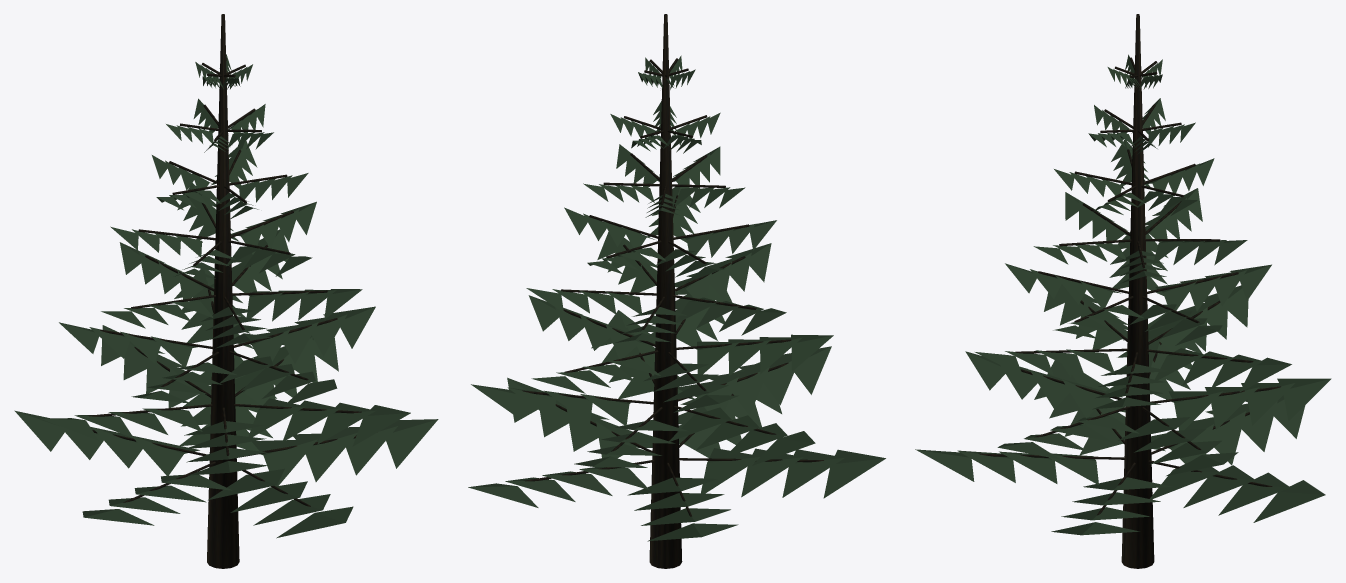
File: pine-2.glb
The picture shows the model from 3 angles, left to right: view 1: azimuth 30°, elevation 25°; view 2: azimuth 150°, elevation 25°; view 3: azimuth 270°, elevation 25°; orthographic projection.
Parts seen in each view (by area): view 1: Trunk.001, Needle spray.358, Needle spray.354, Needle spray.356, Needle spray.352, Needle spray.329, Needle spray.335, Needle spray.331, Needle spray.390, Needle spray.388, Needle spray.386, Needle spray.384 (+14 smaller); view 2: Trunk.001, Needle spray.342, Needle spray.340, Needle spray.338, Needle spray.336, Needle spray.378, Needle spray.382, Needle spray.355, Needle spray.380, Needle spray.414, Needle spray.412, Needle spray.374 (+14 smaller); view 3: Trunk.001, Needle spray.330, Needle spray.326, Needle spray.322, Needle spray.324, Needle spray.366, Needle spray.362, Needle spray.364, Needle spray.332, Needle spray.320, Needle spray.360, Needle spray.351 (+15 smaller).
Part boxes in pixels (x1=…): Trunk.001: x1=207, y1=14, x2=239, y2=568; Needle spray.358: x1=386, y1=419, x2=437, y2=468; Needle spray.354: x1=305, y1=433, x2=357, y2=481; Needle spray.356: x1=346, y1=426, x2=397, y2=475; Needle spray.352: x1=263, y1=439, x2=317, y2=486; Needle spray.329: x1=133, y1=436, x2=183, y2=476; Needle spray.335: x1=14, y1=410, x2=64, y2=451; Needle spray.331: x1=92, y1=427, x2=142, y2=468; Needle spray.390: x1=352, y1=413, x2=410, y2=446; Needle spray.388: x1=317, y1=411, x2=375, y2=444; Needle spray.386: x1=282, y1=408, x2=340, y2=442; Needle spray.384: x1=248, y1=406, x2=305, y2=437; Trunk.001: x1=649, y1=14, x2=682, y2=568; Needle spray.342: x1=823, y1=458, x2=885, y2=498; Needle spray.340: x1=782, y1=458, x2=844, y2=497; Needle spray.338: x1=741, y1=457, x2=803, y2=497; Needle spray.336: x1=700, y1=457, x2=759, y2=493; Needle spray.378: x1=732, y1=367, x2=769, y2=415; Needle spray.382: x1=794, y1=346, x2=831, y2=394; Needle spray.355: x1=566, y1=407, x2=598, y2=451; Needle spray.380: x1=763, y1=361, x2=795, y2=405; Needle spray.414: x1=791, y1=335, x2=833, y2=371; Needle spray.412: x1=760, y1=337, x2=802, y2=373; Needle spray.374: x1=752, y1=439, x2=814, y2=465; Trunk.001: x1=1121, y1=14, x2=1154, y2=568; Needle spray.330: x1=1210, y1=411, x2=1246, y2=465; Needle spray.326: x1=1253, y1=492, x2=1325, y2=522; Needle spray.322: x1=1183, y1=477, x2=1255, y2=507; Needle spray.324: x1=1218, y1=484, x2=1289, y2=515; Needle spray.366: x1=1283, y1=378, x2=1331, y2=421; Needle spray.362: x1=1211, y1=387, x2=1259, y2=429; Needle spray.364: x1=1247, y1=383, x2=1294, y2=425; Needle spray.332: x1=1241, y1=401, x2=1277, y2=451; Needle spray.320: x1=1150, y1=469, x2=1220, y2=499; Needle spray.360: x1=1174, y1=391, x2=1222, y2=430; Needle spray.351: x1=915, y1=449, x2=974, y2=481.
Bounding box in the file's own units: 5.97 × 8.5 × 5.87.
2 materials, 1 textured.
